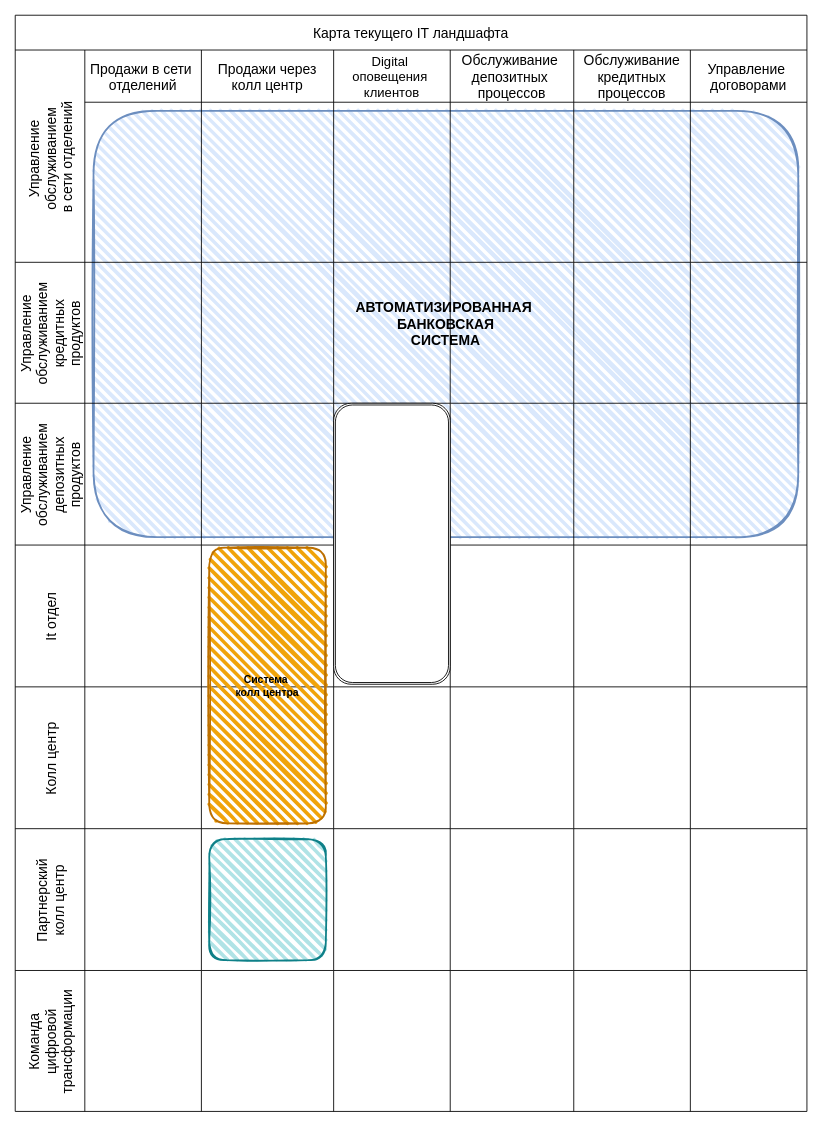
The diagram is 822 pixels wide and 1127 high, and some of its shapes have lost their labels. Here are the shapes that lost their labels. From the top down, the centre of each, then its label:
At [391,543]: "СМС Шлюз".
At [267,899]: "Система партнерского колл центра".
